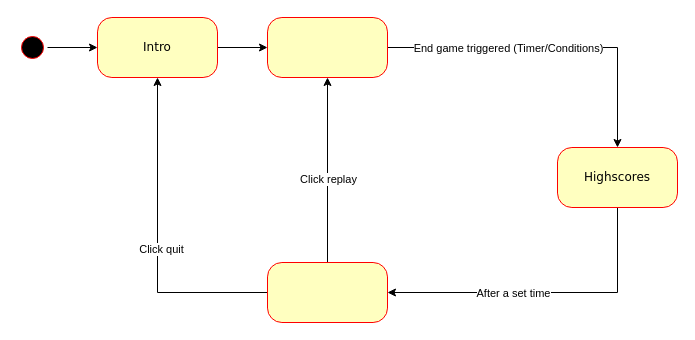
Image size: 695x340. Some labels were removed from this diagram. The shapes that lost their labels are listed below. From the top down, each one's centre as x and y in pixels, then its label:
At point 327,47: "Playing".
At point 327,292: "End".
